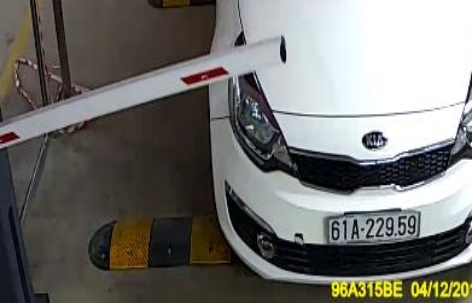plate: (319, 206, 422, 246)
